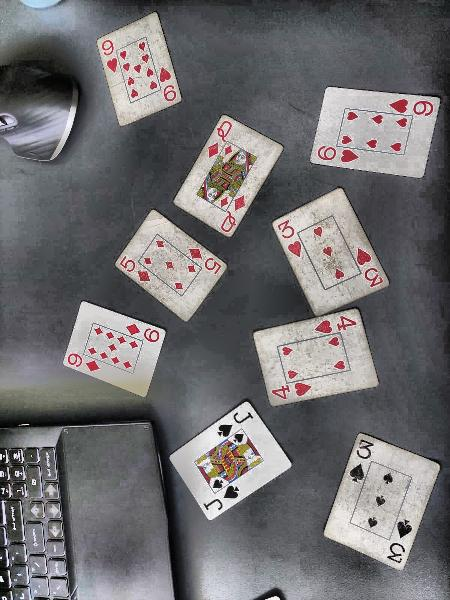3C: (353, 246, 384, 290), (275, 218, 306, 259)
3P: (347, 436, 377, 485), (386, 517, 415, 565)
4C: (314, 312, 358, 337), (269, 381, 315, 404)
5D: (187, 247, 227, 276), (117, 254, 152, 284)
6C: (387, 96, 438, 119), (316, 144, 364, 167)
9C: (156, 65, 179, 102), (99, 39, 119, 75)
9D: (124, 320, 163, 345), (64, 351, 102, 376)
JP: (215, 407, 256, 441), (202, 483, 242, 515)
QD: (217, 192, 249, 236), (202, 118, 233, 159)
